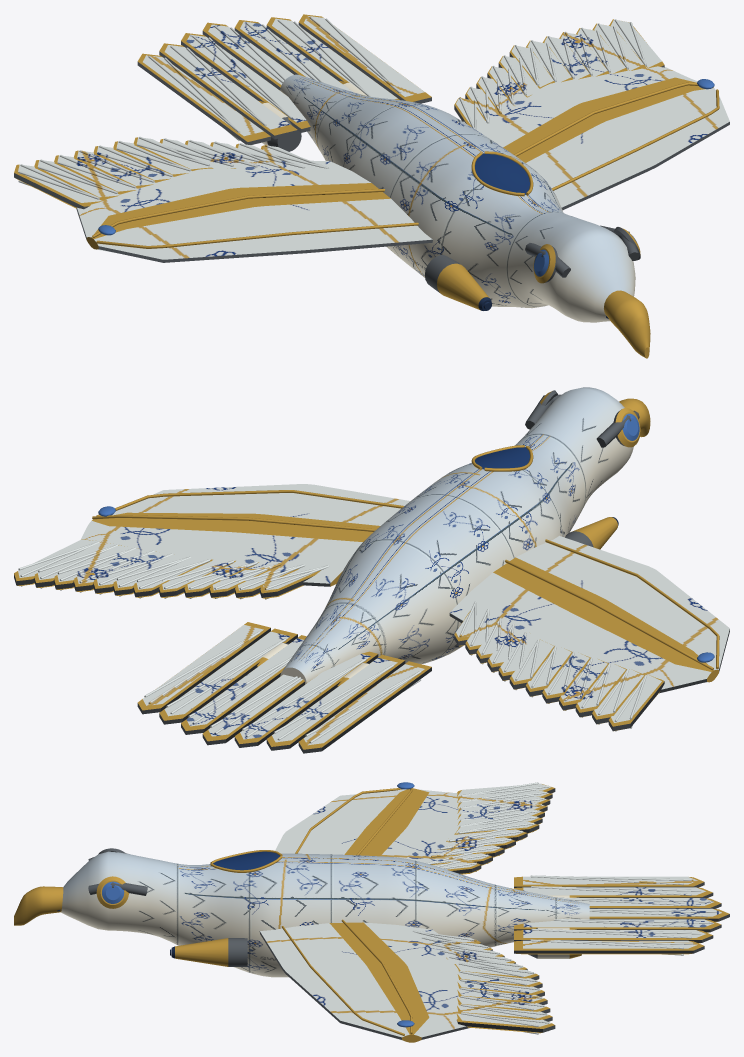
3 views of the same model, one above another, from view 1: azimuth 30°, elevation 25°; view 2: azimuth 150°, elevation 25°; view 3: azimuth 270°, elevation 25° (orthographic). The views are drawn at different scales.
Visible parts, largest first — view 1: shrike_hull; view 2: shrike_hull; view 3: shrike_hull.
Boxes of the visible parts, x1,y1,x2,y2 form: shrike_hull: (14,14,729,358); shrike_hull: (14,387,729,753); shrike_hull: (14,782,729,1042).
Size of the model in its own units: 13.49 by 2.96 by 16.5.
Materials: 1 (1 with a texture image).
